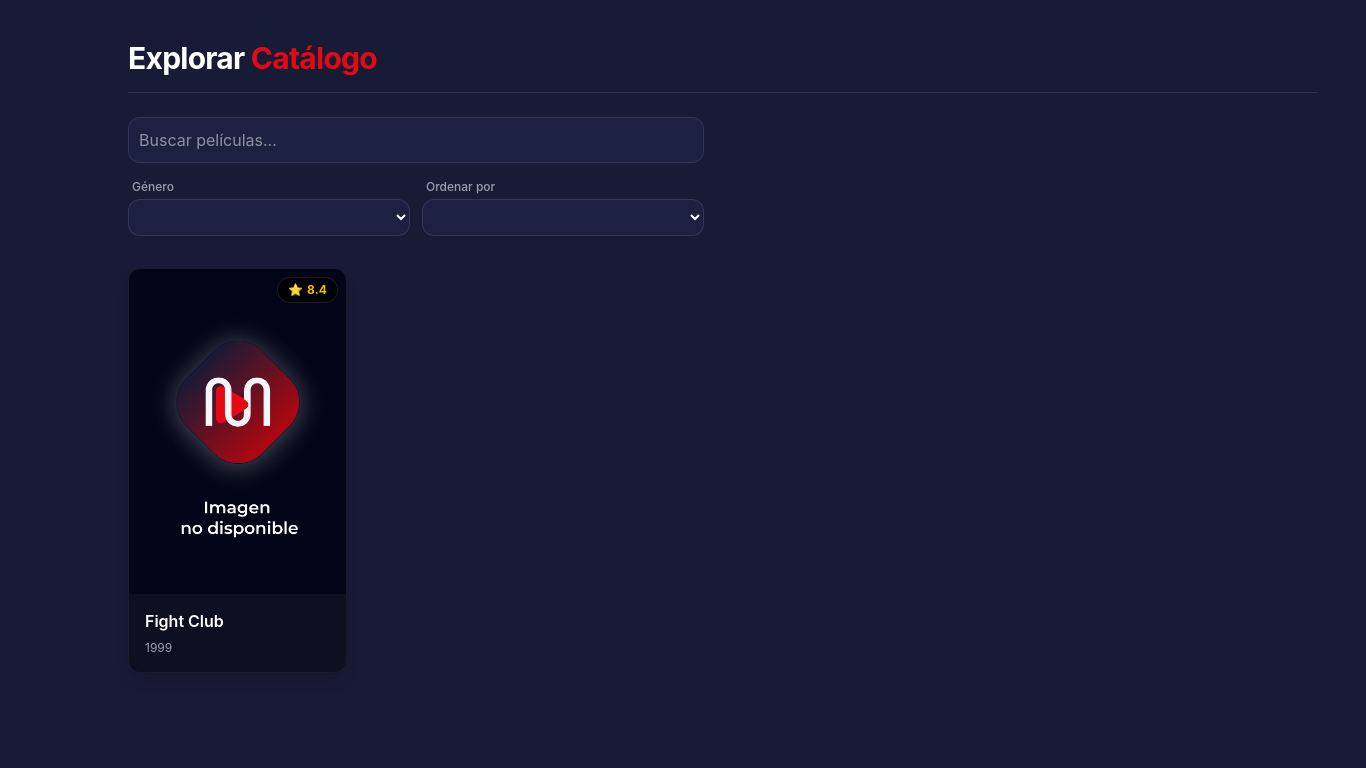
Test case: US-01: Cercar pel·lícules › Escenari: Cercar una pel·lícula inexistent
Check: the heading "Fight Club" is shown, box [145,611,224,631]
Type "xxzzqqq123" into the field with placeholder "Buscar películas..." at [416, 140], box [128,117,704,163]
Then press Enter
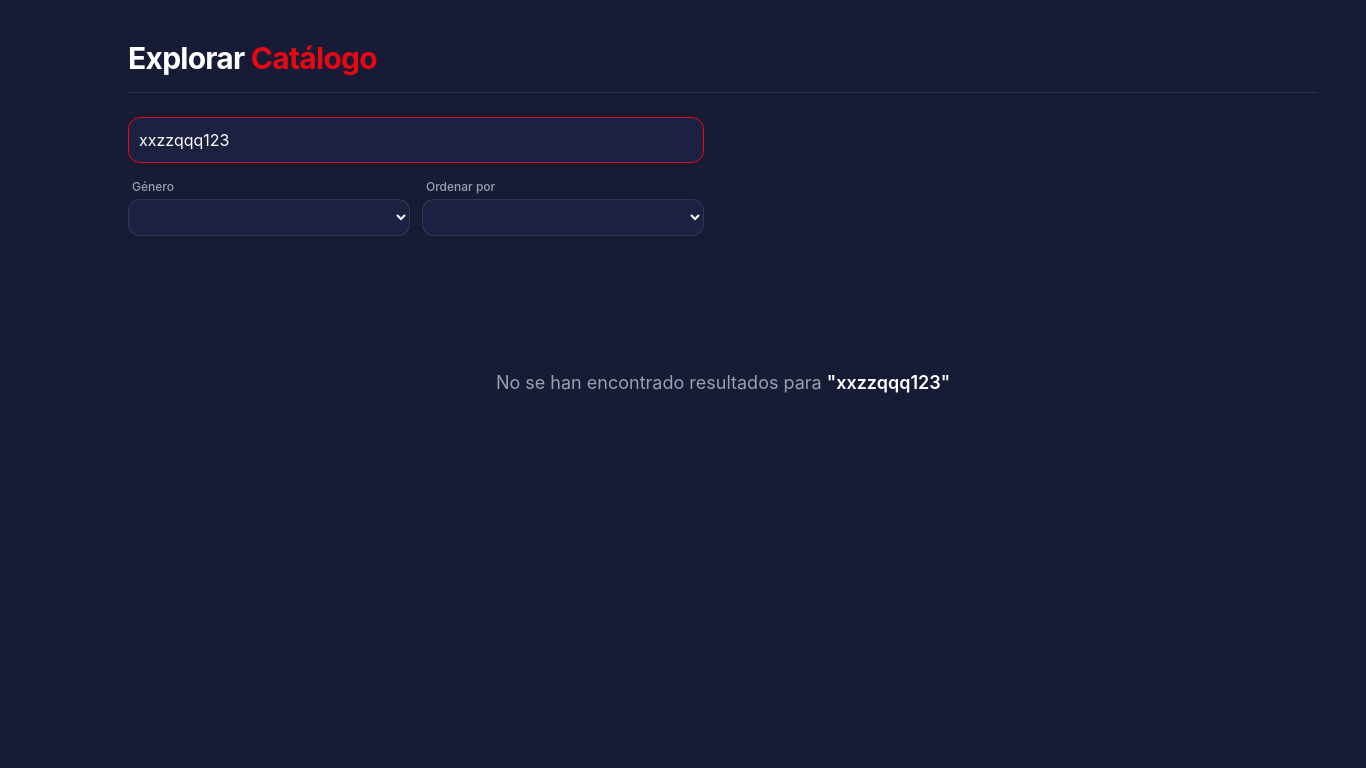
Check: the text "No se han encontrado resultados para \"xxzzqqq123\"" is shown, box [496,369,950,397]
